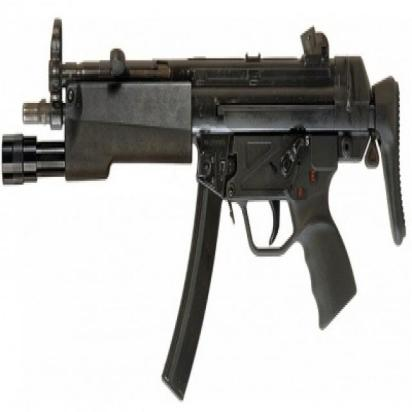Gun: (0, 7, 400, 412)
